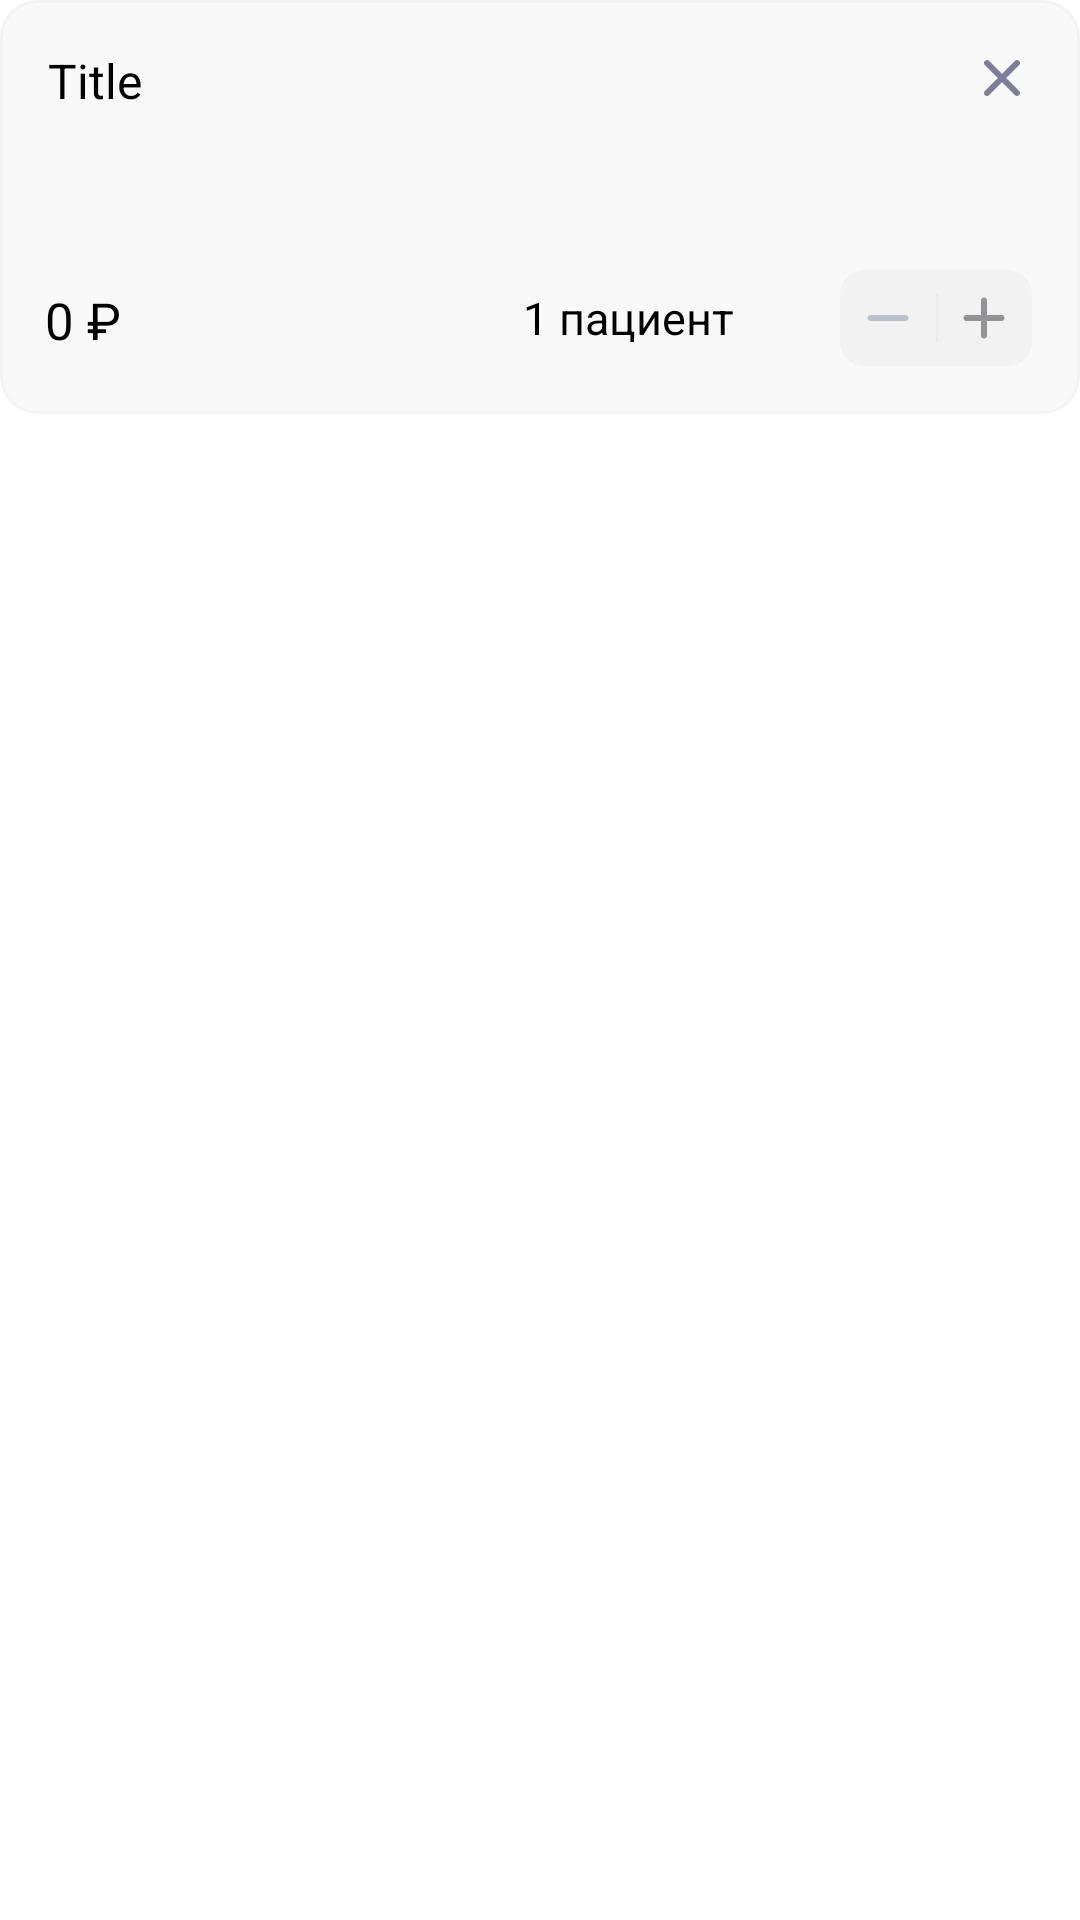

Locate icon controls on the screen. Image size 1080x1920, boxes as detection(x1, y1, x2, y2).
delete: detection(984, 60, 1020, 96)
